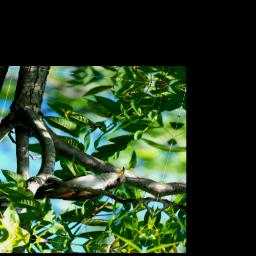Cuckoo: (33, 157, 129, 210)
